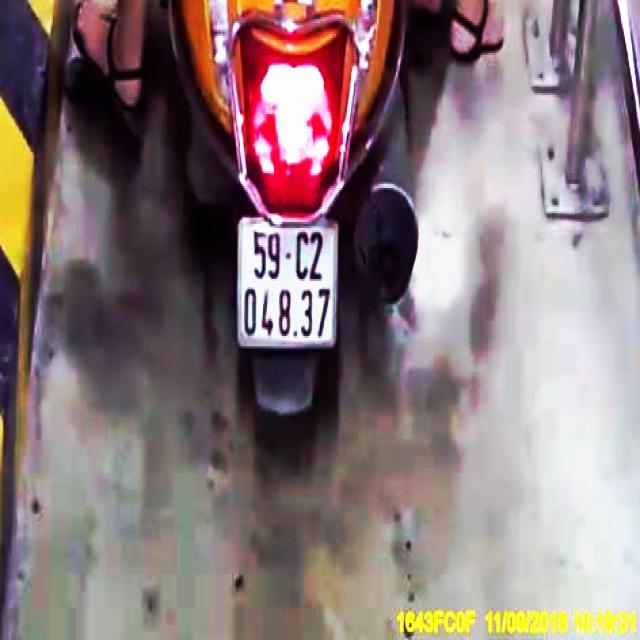license_plate: (240, 219, 337, 348)
